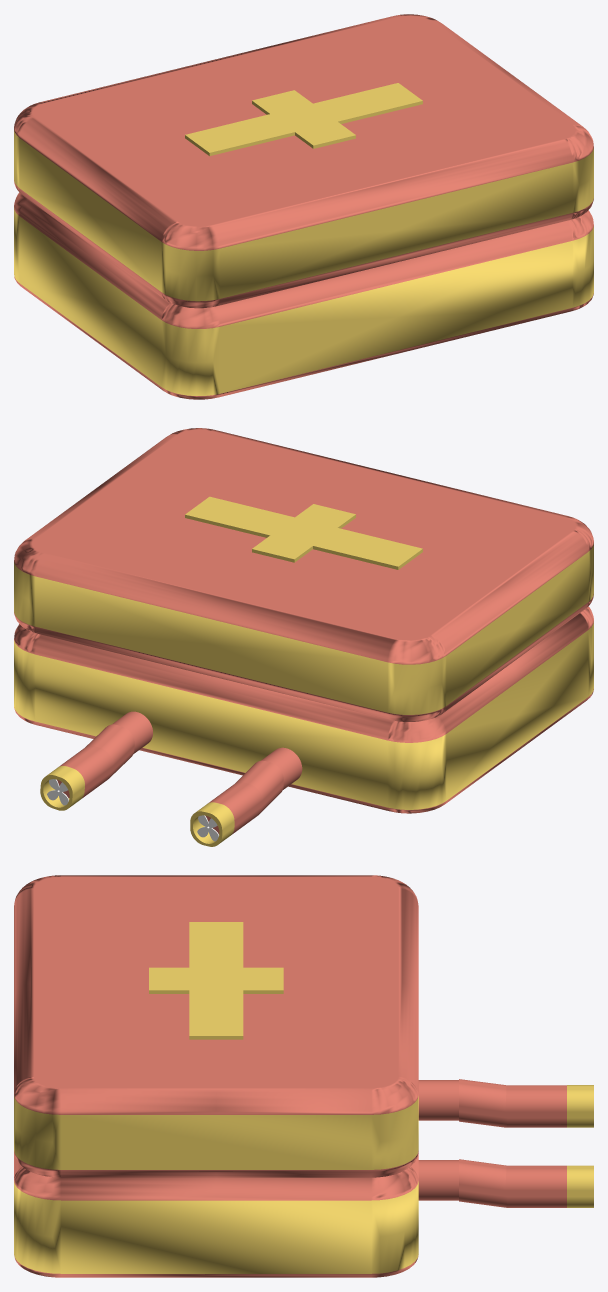
3 renders of one model, top to bottom at view 1: azimuth 30°, elevation 25°; view 2: azimuth 150°, elevation 25°; view 3: azimuth 270°, elevation 25°, orthographic. The views are drawn at different scales.
Visible parts, largest first — view 1: Body31, Body30, Body33; view 2: Body31, Body30, Body33, 공기관1, 공기관1 (1), 팬커버 (1), 팬커버, 공기관2 (1), 공기관2; view 3: Body31, Body30, Body33, 공기관1 (1), 공기관1, 공기관2, 공기관2 (1), 팬커버, 팬커버 (1).
Boxes of the visible parts, x1,y1,x2,y2 form: Body31: (14, 14, 593, 308); Body30: (14, 192, 593, 399); Body33: (185, 83, 422, 156); Body31: (14, 428, 593, 721); Body30: (14, 606, 593, 813); Body33: (185, 496, 422, 569); 공기관1: (57, 724, 134, 798); 공기관1 (1): (205, 760, 283, 834); 팬커버 (1): (190, 802, 234, 846); 팬커버: (40, 766, 84, 810); 공기관2 (1): (261, 747, 302, 789); 공기관2: (112, 711, 152, 753); Body31: (14, 875, 418, 1177); Body30: (14, 1152, 418, 1277); Body33: (149, 922, 283, 1039); 공기관1 (1): (459, 1079, 566, 1127); 공기관1: (459, 1159, 566, 1207); 공기관2: (418, 1160, 458, 1200); 공기관2 (1): (418, 1080, 458, 1120); 팬커버: (567, 1165, 593, 1207); 팬커버 (1): (567, 1085, 593, 1127).
Size of the model in its own units: 40 by 15.3 by 43.
